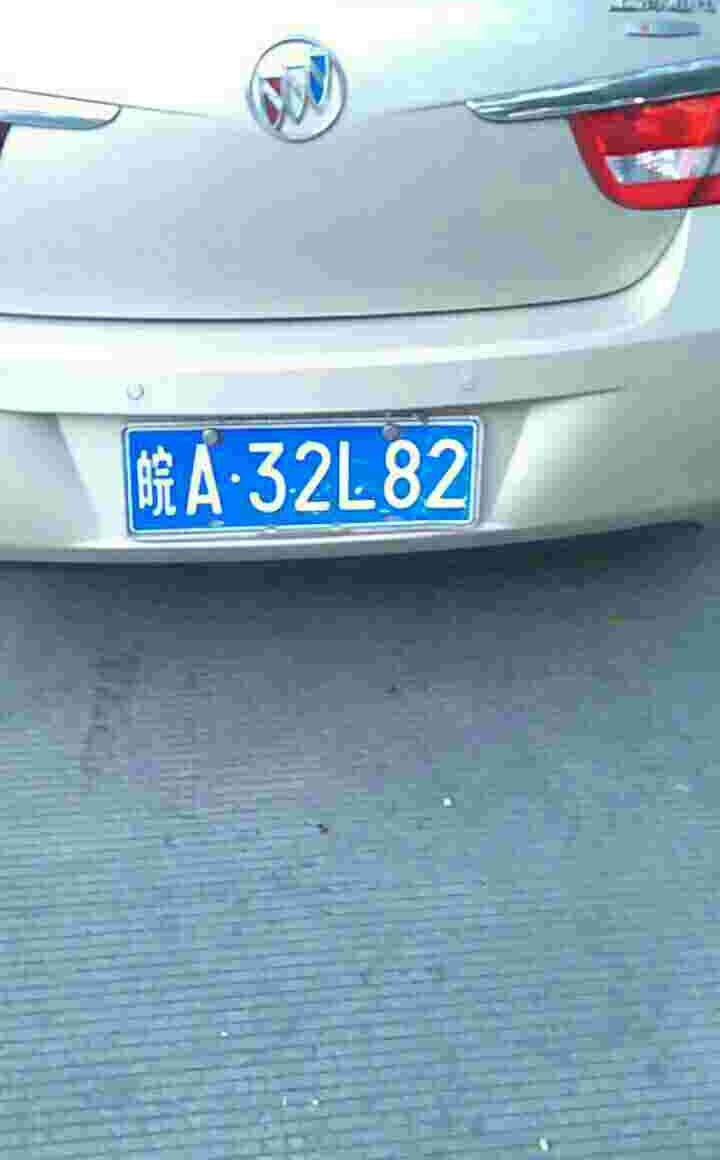license_plate: (126, 415, 489, 537)
